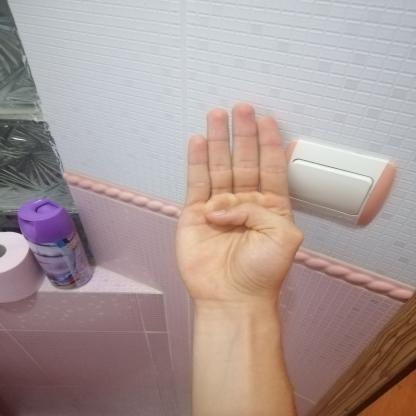KAAF: (158, 90, 320, 312)
